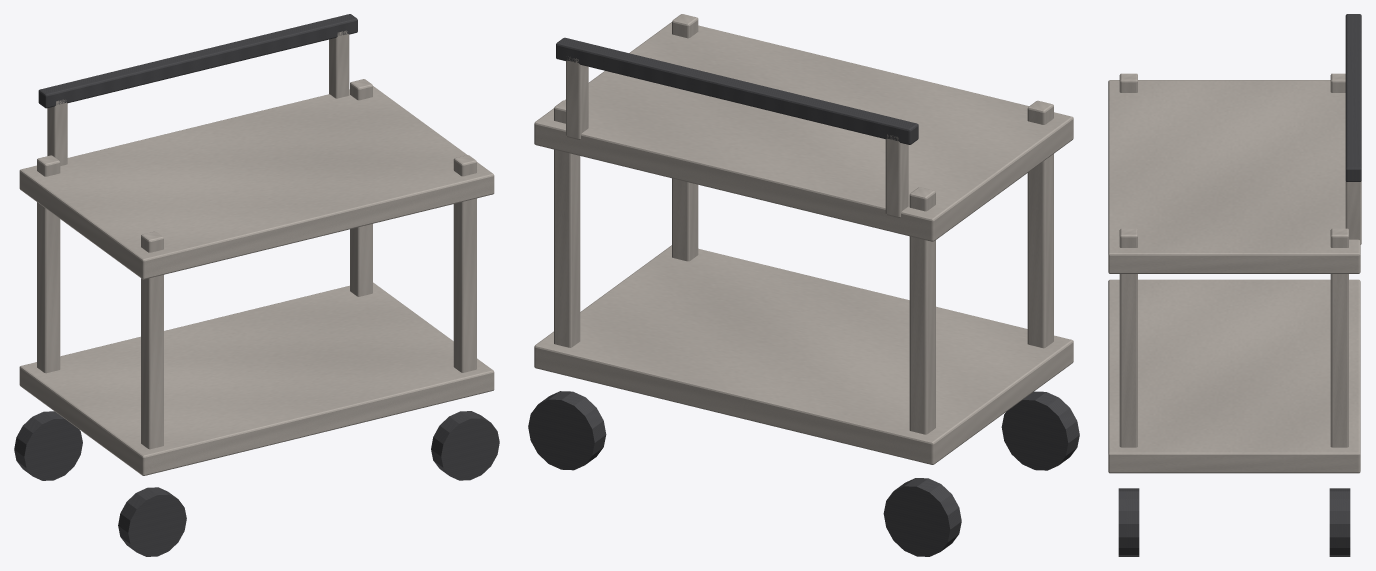
File: cleanroom_cart.glb
3 views of the same model, side by side, from view 1: azimuth 30°, elevation 25°; view 2: azimuth 150°, elevation 25°; view 3: azimuth 270°, elevation 25° (orthographic). The views are drawn at different scales.
Parts seen in each view (by area): view 1: shelf.012, shelf.011, handle.007, post.016, post.014, post.015, caster.006, caster.004, caster.005, post.017, handle_support.001, handle_support; view 2: shelf.011, shelf.012, handle.007, post.015, post.014, post.017, caster.005, caster.007, caster.004, post.016, handle_support, handle_support.001; view 3: shelf.012, shelf.011, post.016, post.017, handle.007, caster.006, caster.007, handle_support.001, post.014.
Part boxes in pixels (left/top/right/bottom): shelf.012: left=19, top=86, right=494, bottom=279; shelf.011: left=19, top=282, right=494, bottom=475; handle.007: left=38, top=14, right=357, bottom=108; post.016: left=453, top=155, right=476, bottom=372; post.014: left=141, top=231, right=163, bottom=449; post.015: left=37, top=155, right=60, bottom=373; caster.006: left=431, top=411, right=499, bottom=480; caster.004: left=118, top=487, right=186, bottom=556; caster.005: left=14, top=411, right=82, bottom=480; post.017: left=350, top=79, right=372, bottom=296; handle_support.001: left=329, top=30, right=349, bottom=98; handle_support: left=47, top=99, right=67, bottom=165; shelf.011: left=534, top=245, right=1073, bottom=464; shelf.012: left=534, top=22, right=1073, bottom=241; handle.007: left=556, top=37, right=918, bottom=144; post.015: left=909, top=187, right=935, bottom=434; post.014: left=1027, top=100, right=1053, bottom=348; post.017: left=554, top=100, right=580, bottom=347; caster.005: left=883, top=478, right=961, bottom=556; caster.007: left=528, top=391, right=606, bottom=470; caster.004: left=1001, top=391, right=1079, bottom=470; post.016: left=672, top=14, right=698, bottom=261; handle_support: left=885, top=134, right=908, bottom=217; handle_support.001: left=566, top=56, right=588, bottom=139; shelf.012: left=1108, top=80, right=1360, bottom=273; shelf.011: left=1108, top=279, right=1360, bottom=473; post.016: left=1119, top=228, right=1137, bottom=447; post.017: left=1330, top=228, right=1348, bottom=447; handle.007: left=1345, top=14, right=1361, bottom=181; caster.006: left=1118, top=488, right=1139, bottom=556; caster.007: left=1329, top=488, right=1350, bottom=556; handle_support.001: left=1345, top=181, right=1361, bottom=244; post.014: left=1119, top=73, right=1137, bottom=92.
Size of the model in its own units: 0.95 by 0.9275 by 0.5525.
2 materials, 2 textured.
